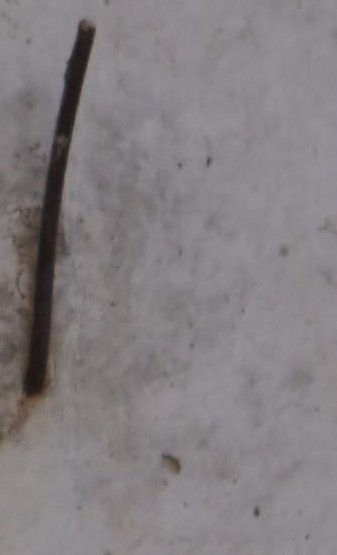Exposed reinforcement: (21, 18, 95, 397)
